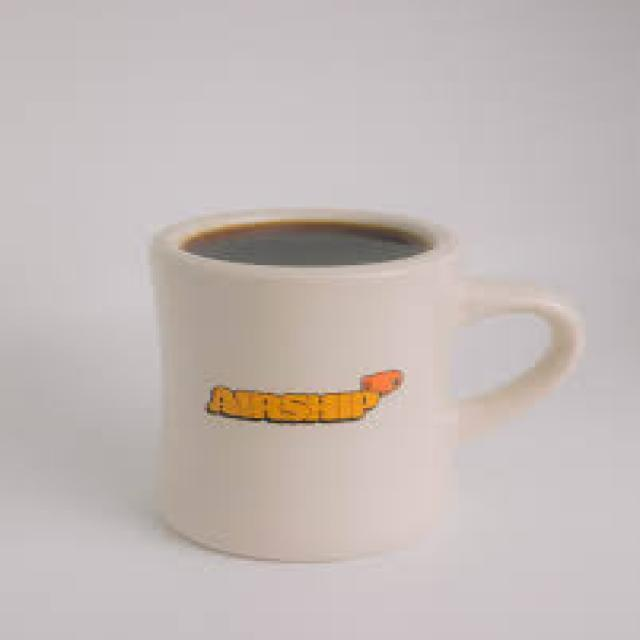taza: (152, 207, 584, 564)
